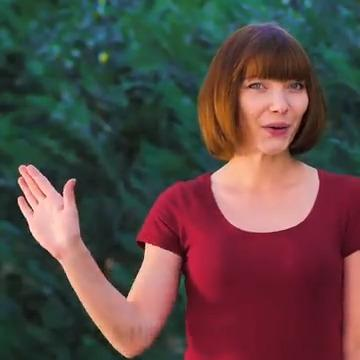Hello: (9, 139, 104, 280)
